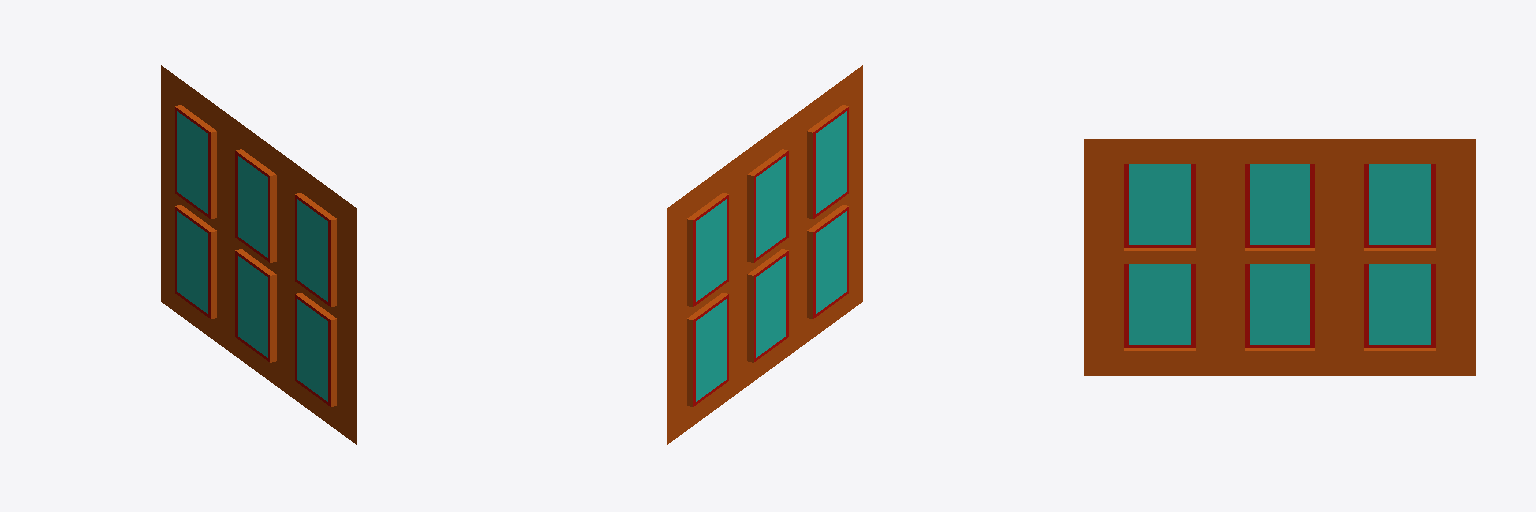
File: skyscraper_wall2.obj
3 renders of one model, left to right at view 1: azimuth 30°, elevation 25°; view 2: azimuth 150°, elevation 25°; view 3: azimuth 270°, elevation 25°, orthographic.
Visible parts, largest first — view 1: Plane; view 2: Plane; view 3: Plane.
Boxes of the visible parts, x1,y1,x2,y2 form: Plane: [161, 65, 356, 444]; Plane: [667, 65, 862, 444]; Plane: [1084, 139, 1475, 375].
Size of the model in its own units: 0.0564 by 2 by 3.